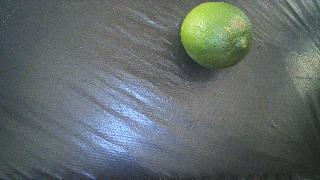DESECHO: (181, 2, 253, 68)
